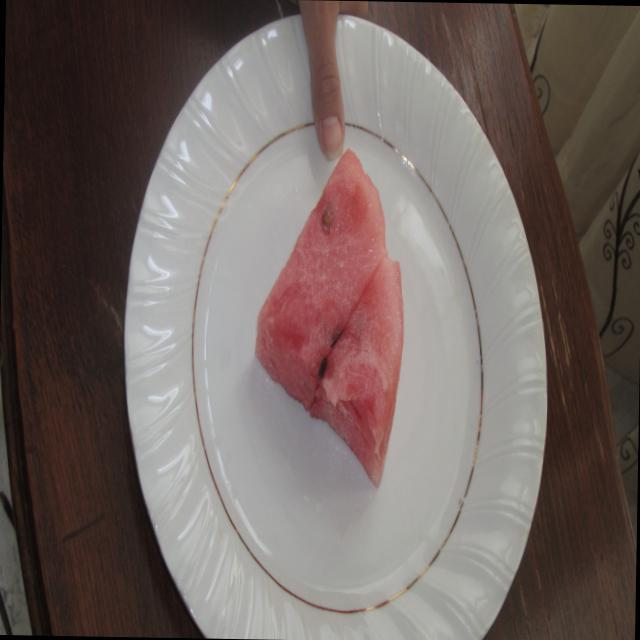Watermelon: (240, 159, 423, 500)
